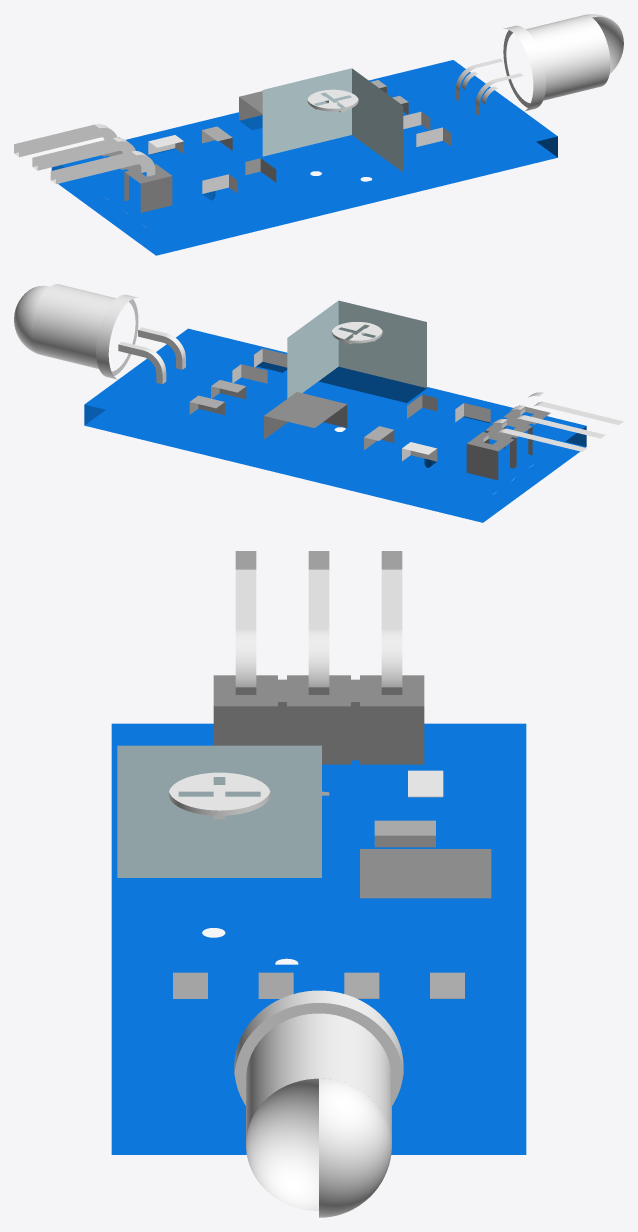
The model's file is Light Sensor.glb.
3 views of the same model, one above another, from view 1: azimuth 30°, elevation 25°; view 2: azimuth 150°, elevation 25°; view 3: azimuth 270°, elevation 25° (orthographic). The views are drawn at different scales.
Parts seen in each view (by area): view 1: Body9, Body10, Body17, Body5, Body16, Body108, Body153, Body138, Body162, Body171, Body4, Body107 (+7 smaller); view 2: Body9, Body10, Body19, Body5, Body16, Body12, Body40, Body108, Body147, Body6, Body128, Body4 (+9 smaller); view 3: Body9, Body10, Body18, Body5, Body6, Body107, Body40, Body147, Body127, Body143, Body111, Body139 (+14 smaller).
Part boxes in pixels (x1,y1,x2,y2): Body9: [62, 60, 557, 234]; Body10: [58, 97, 557, 255]; Body17: [262, 68, 351, 156]; Body5: [526, 15, 610, 79]; Body16: [352, 68, 403, 171]; Body108: [543, 64, 610, 100]; Body153: [56, 154, 155, 183]; Body138: [140, 176, 172, 212]; Body162: [37, 141, 135, 170]; Body171: [19, 128, 117, 157]; Body4: [503, 25, 545, 85]; Body107: [592, 16, 623, 73]; Body9: [84, 328, 586, 501]; Body10: [85, 366, 585, 522]; Body19: [338, 300, 426, 387]; Body5: [32, 284, 115, 348]; Body16: [287, 300, 338, 398]; Body12: [257, 361, 586, 446]; Body40: [264, 392, 346, 427]; Body108: [32, 333, 98, 368]; Body147: [467, 405, 550, 451]; Body6: [14, 285, 49, 354]; Body128: [466, 444, 498, 480]; Body4: [96, 294, 137, 354]; Body9: [111, 723, 526, 1112]; Body10: [111, 792, 526, 1154]; Body18: [117, 745, 321, 877]; Body5: [246, 1013, 391, 1140]; Body6: [319, 1078, 391, 1217]; Body107: [246, 1078, 382, 1210]; Body40: [360, 849, 491, 898]; Body147: [213, 675, 424, 706]; Body127: [360, 706, 424, 764]; Body143: [287, 706, 350, 764]; Body111: [234, 1003, 403, 1105]; Body139: [213, 706, 277, 745].
Size of the model in its own units: 0.0462 by 0.0071 by 0.0142.
